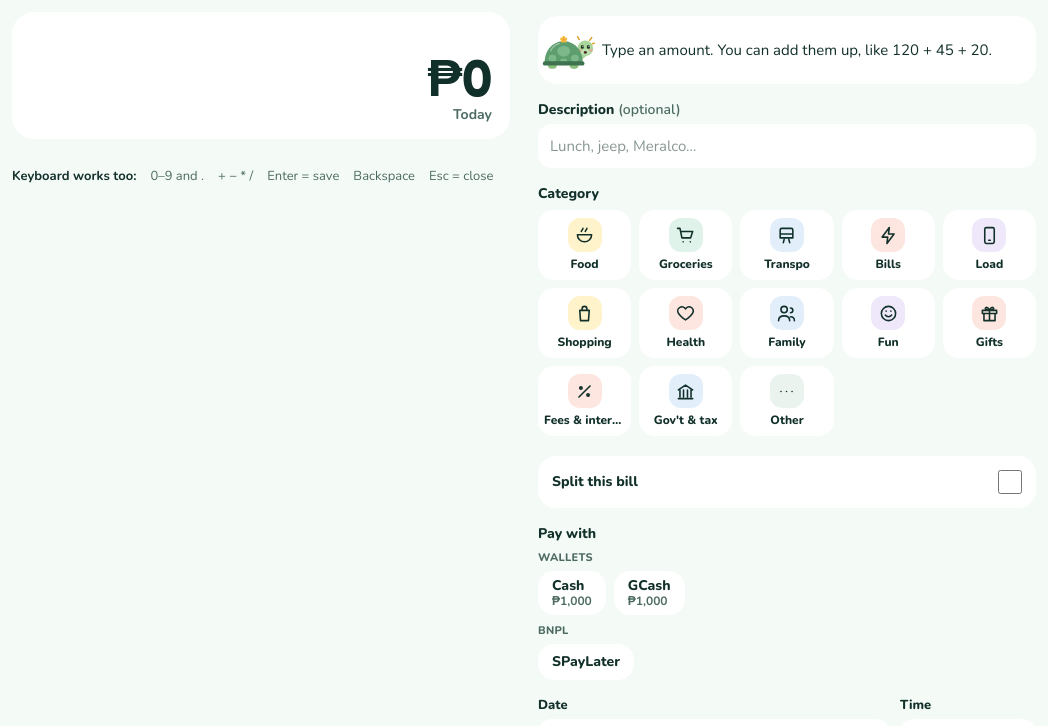
Test: TransactionForm › types the amount from the keyboard and saves a Food expense from the wallet you pick
Later steps or results of the test are not shown.
Step 1. Type keys "120+30"
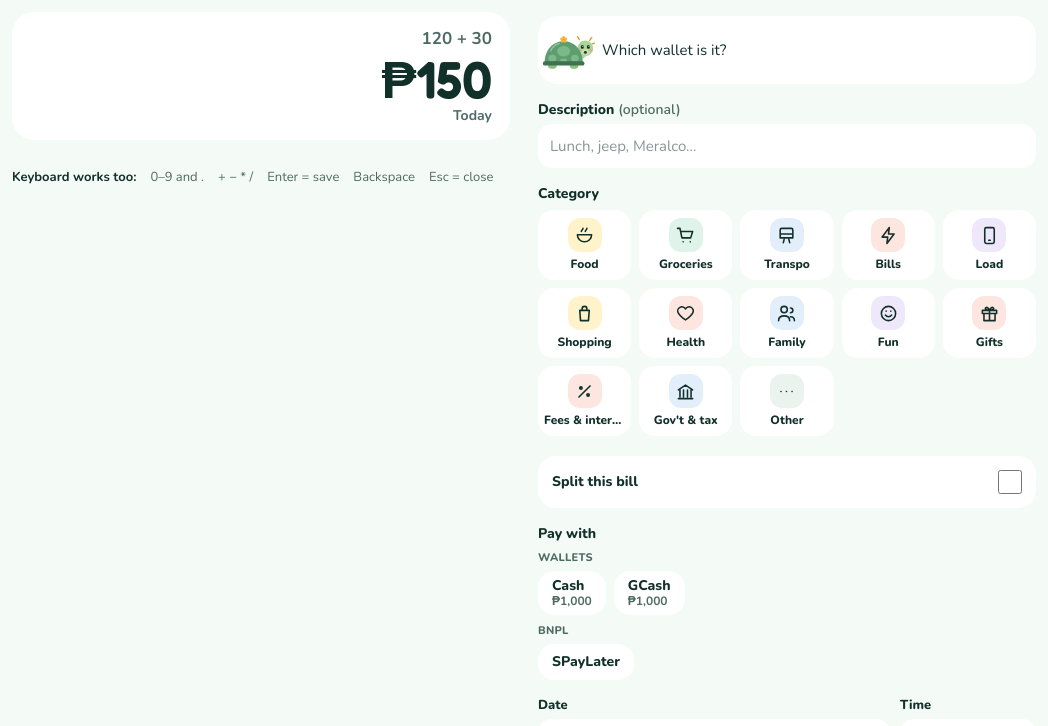
Step 2. Type "Lunch" into the field labelled "Description (optional)" → {"x": 787, "y": 146}, box [538,124,1036,168]
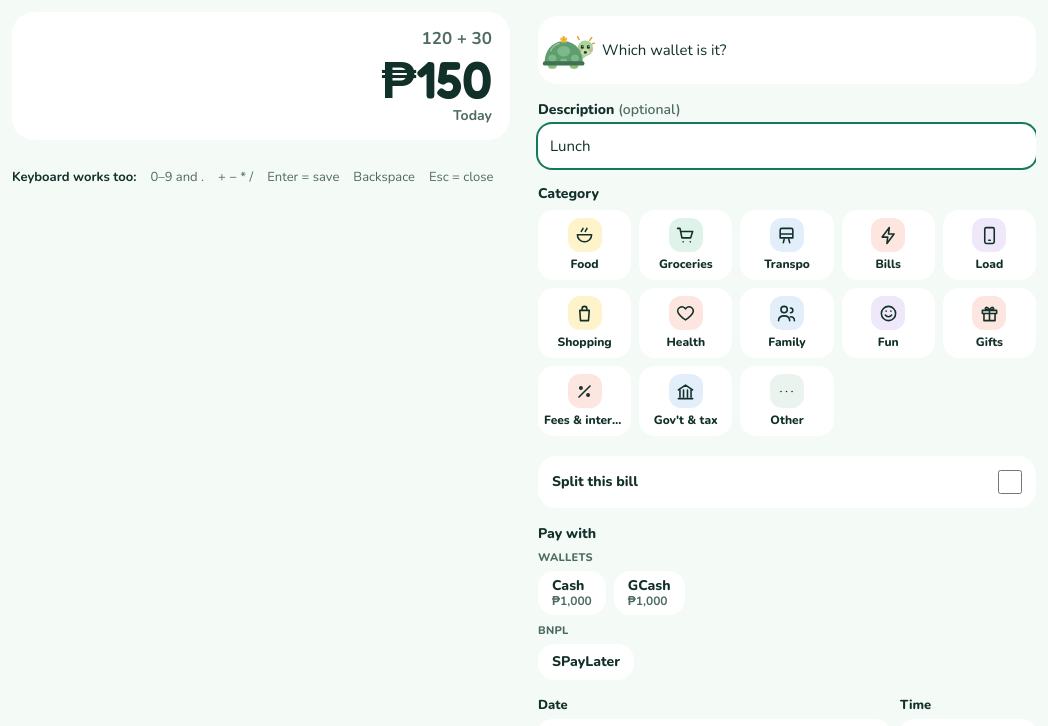
Step 3. Click the button "Food" → {"x": 585, "y": 245}, box [538,210,631,280]
(page scrolled)
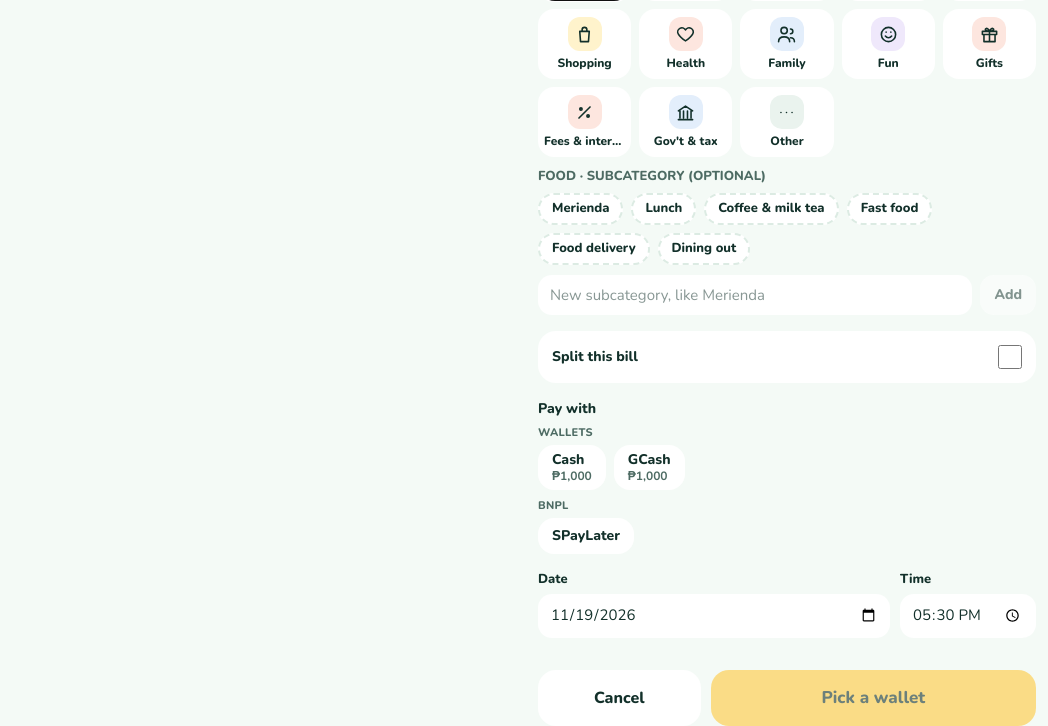
Step 4. Click the button "Cash ₱1,000" → {"x": 572, "y": 467}, box [538,445,606,490]
(page scrolled)
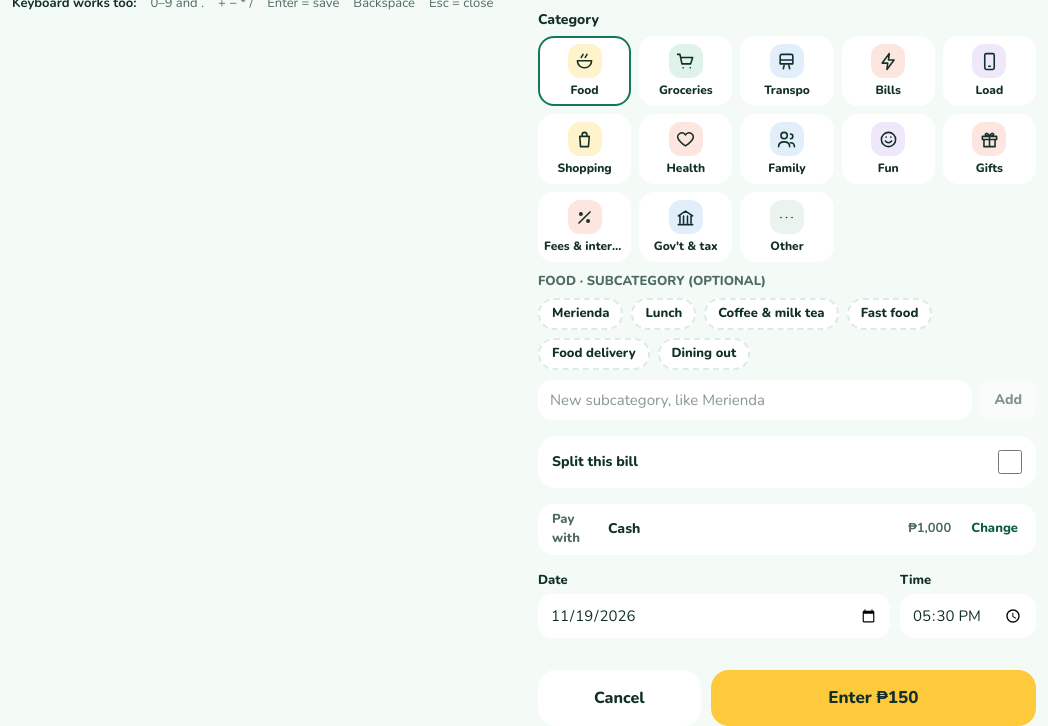
Expected: the button "Enter ₱150" is shown, [711,670,1036,725]
